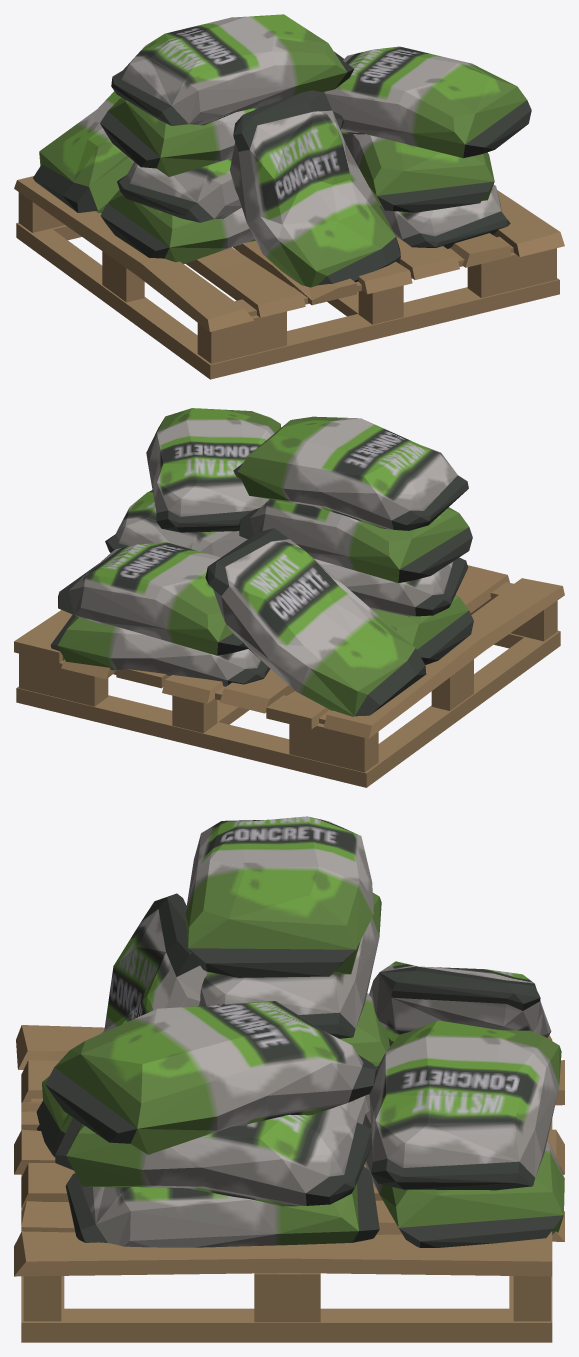
Rendered from SM_Prop_ConcreteBag_Stack_03.glb.
3 renders of one model, top to bottom at view 1: azimuth 30°, elevation 25°; view 2: azimuth 150°, elevation 25°; view 3: azimuth 270°, elevation 25°, orthographic. The views are drawn at different scales.
Visible parts, largest first — view 1: SM_Prop_ConcreteBag_Stack_03; view 2: SM_Prop_ConcreteBag_Stack_03; view 3: SM_Prop_ConcreteBag_Stack_03.
Part boxes in pixels (box(x1,y1,x2,y2)): SM_Prop_ConcreteBag_Stack_03: box(14, 14, 564, 379); SM_Prop_ConcreteBag_Stack_03: box(14, 408, 564, 787); SM_Prop_ConcreteBag_Stack_03: box(14, 816, 564, 1342).
Bounding box in the file's own units: 1.47 × 0.964 × 1.42.
Materials: 1 (1 with a texture image).
